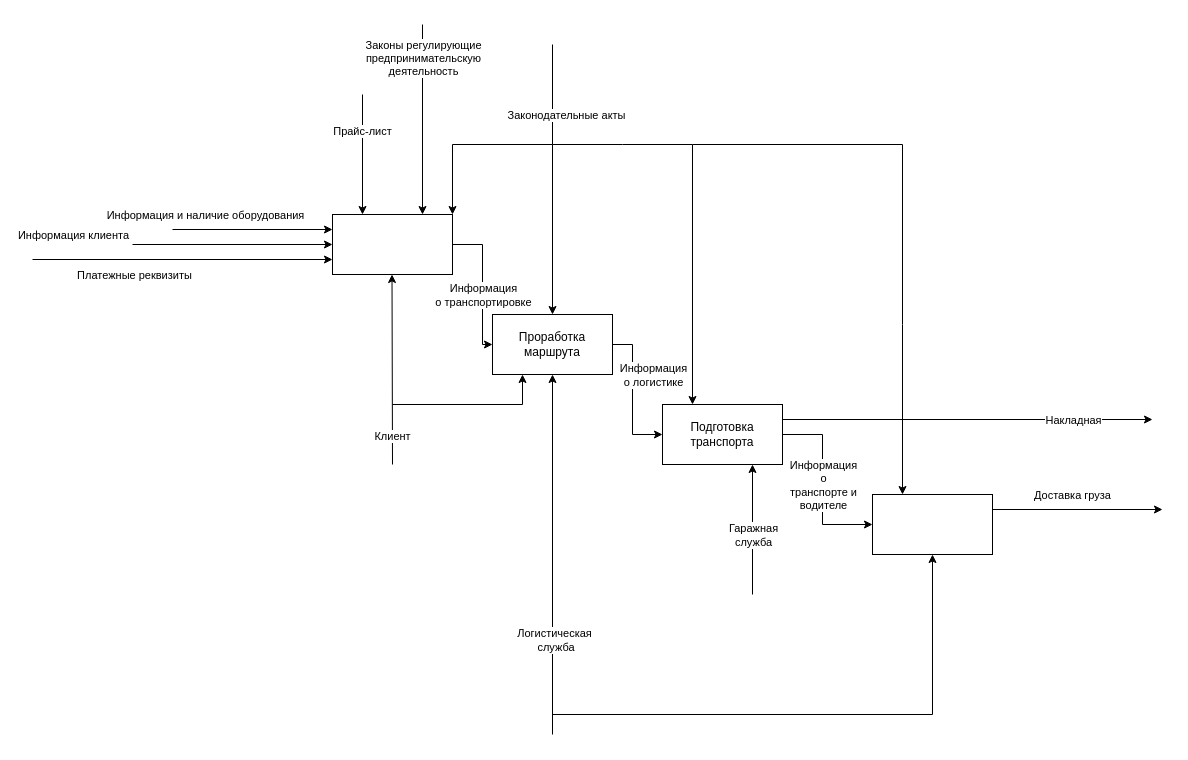
Image size: 1188x760. Some labels were removed from this diagram. The centre of each missing label's shape, as x and y in pixels:
"Заказ и оплата перевозки" belongs at (x=392, y=244).
"Отправка груза" belongs at (x=932, y=524).
